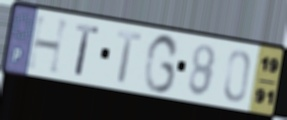0: (222, 48, 252, 104)
8: (186, 43, 217, 98)
G: (141, 32, 181, 96)
H: (25, 13, 74, 77)
T: (115, 29, 144, 86), (73, 21, 101, 78)
